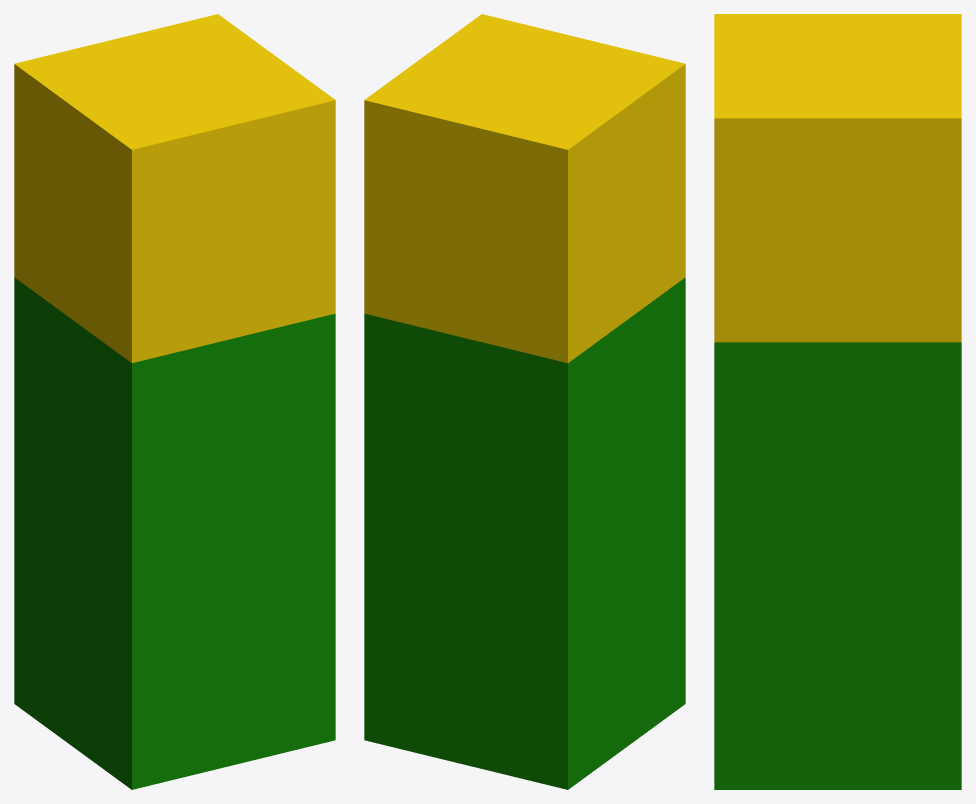
File: (4) White Flowers (Stage 3).obj
The picture shows the model from 3 angles, left to right: view 1: azimuth 30°, elevation 25°; view 2: azimuth 150°, elevation 25°; view 3: azimuth 270°, elevation 25°; orthographic projection. The views are drawn at different scales.
Bounding box in the file's own units: 0.1 × 0.3 × 0.1.
Materials: 1 (1 with a texture image).
